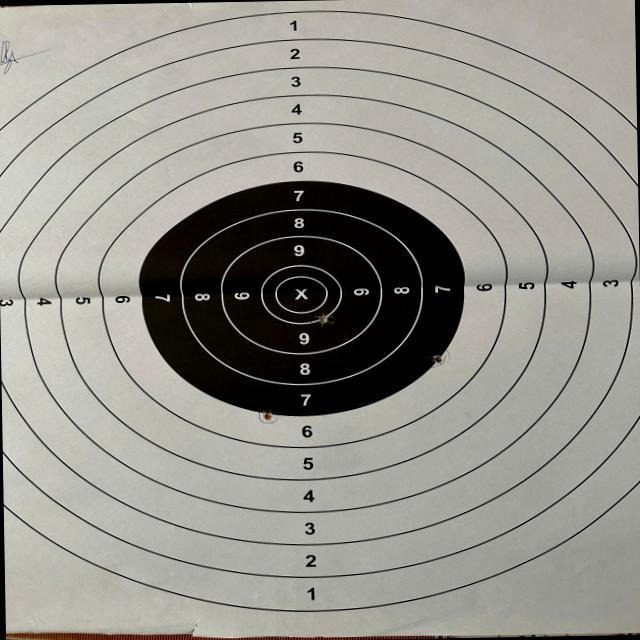bullet: (429, 354, 443, 364), (318, 314, 329, 324), (264, 412, 273, 419)
target: (0, 0, 640, 637)
